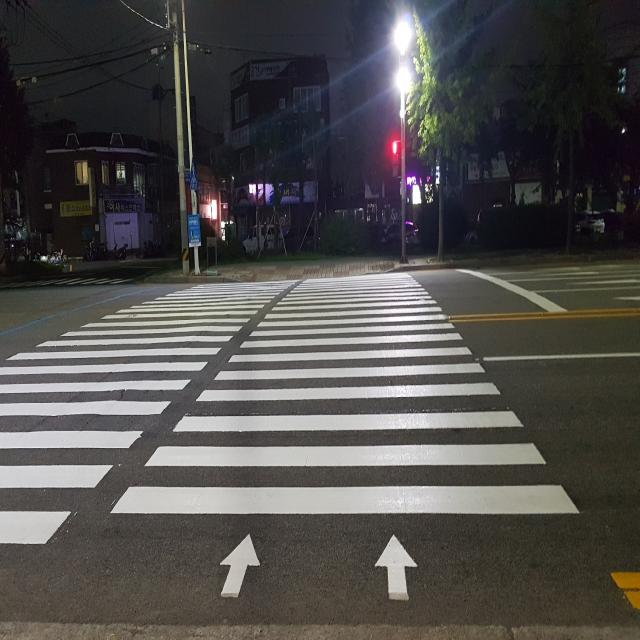빨간불: (391, 142, 399, 177)
횡단보도: (0, 270, 582, 603)
